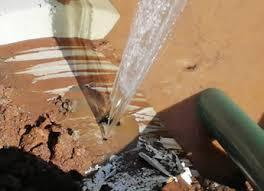water_leak: (95, 0, 188, 140)
